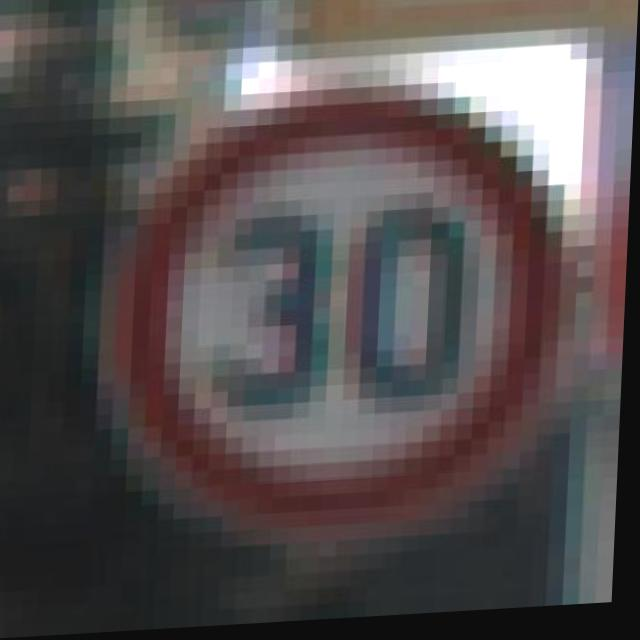Speed limit 30: (104, 52, 587, 554)
